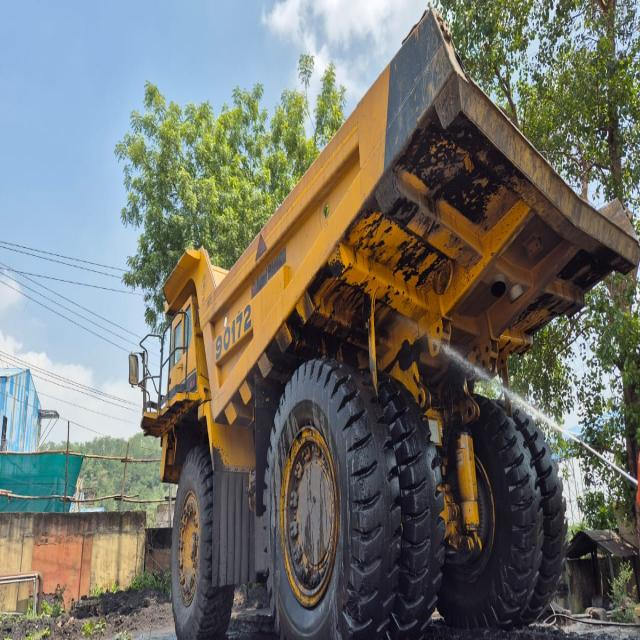dump_truck: (148, 3, 640, 640)
